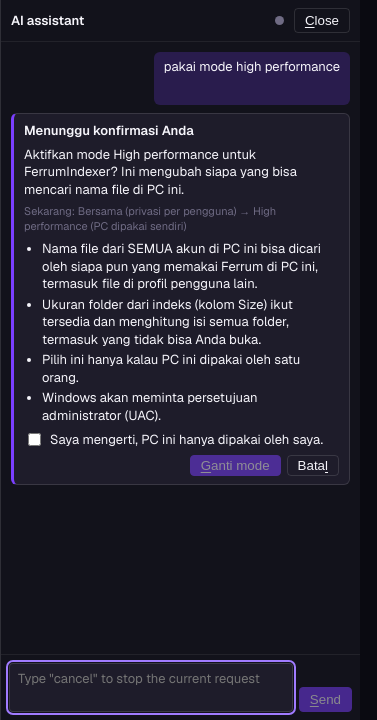
Scenario: IndexerCard: mode change › while the change is being applied the buttons are gone and UAC is mentioned
Click the checkbox with test id "indexer-ack": (34, 440) x1=28 y1=433 x2=41 y2=446
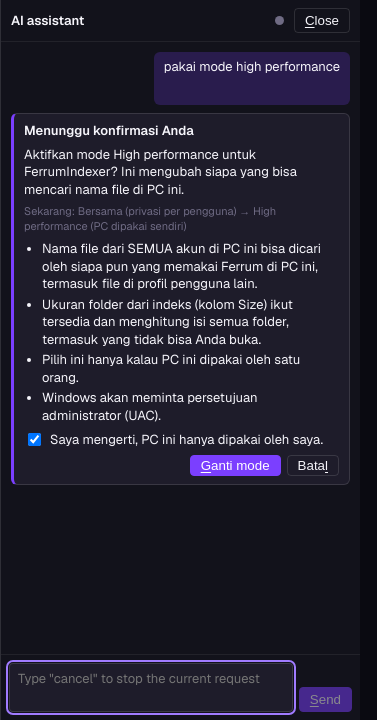
Click the button with test id "indexer-apply": (235, 466) x1=190 y1=455 x2=281 y2=476
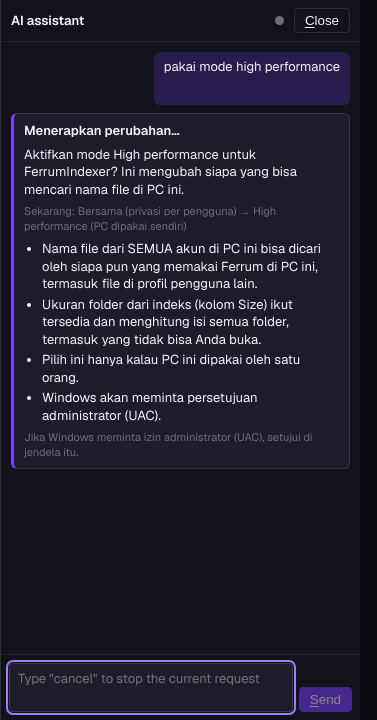
Expected: the button with test id "indexer-apply" is gone
Expected: the button "Batal" is gone
Expected: the text with test id "indexer-applying" shows "UAC", x1=24 y1=430 x2=312 y2=459
